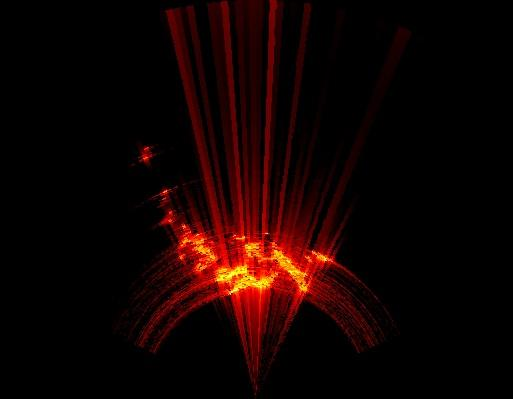shipwreck: (179, 224, 328, 293)
